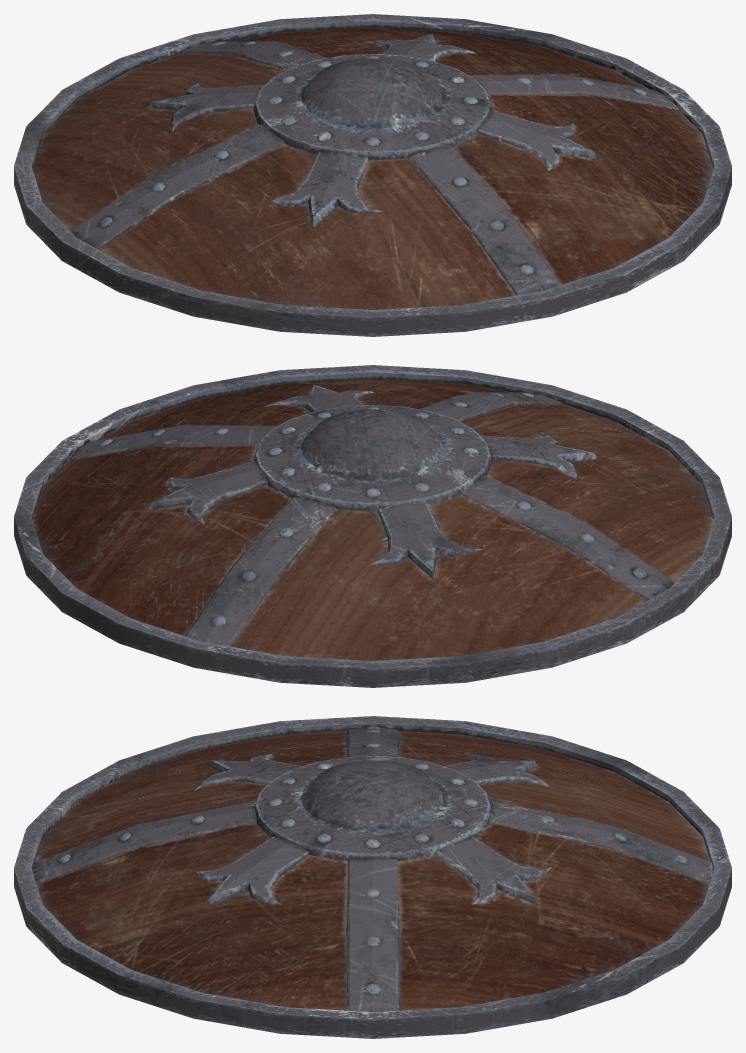
File: WoodenShield.fbx
3 views of the same model, one above another, from view 1: azimuth 30°, elevation 25°; view 2: azimuth 150°, elevation 25°; view 3: azimuth 270°, elevation 25° (orthographic).
Parts seen in each view (by area): view 1: WoodenShield; view 2: WoodenShield; view 3: WoodenShield.
Boxes of the visible parts, x1,y1,x2,y2 form: WoodenShield: [14, 14, 731, 336]; WoodenShield: [14, 365, 731, 687]; WoodenShield: [14, 716, 731, 1038].
Size of the model in its own units: 65 by 14.87 by 65.
